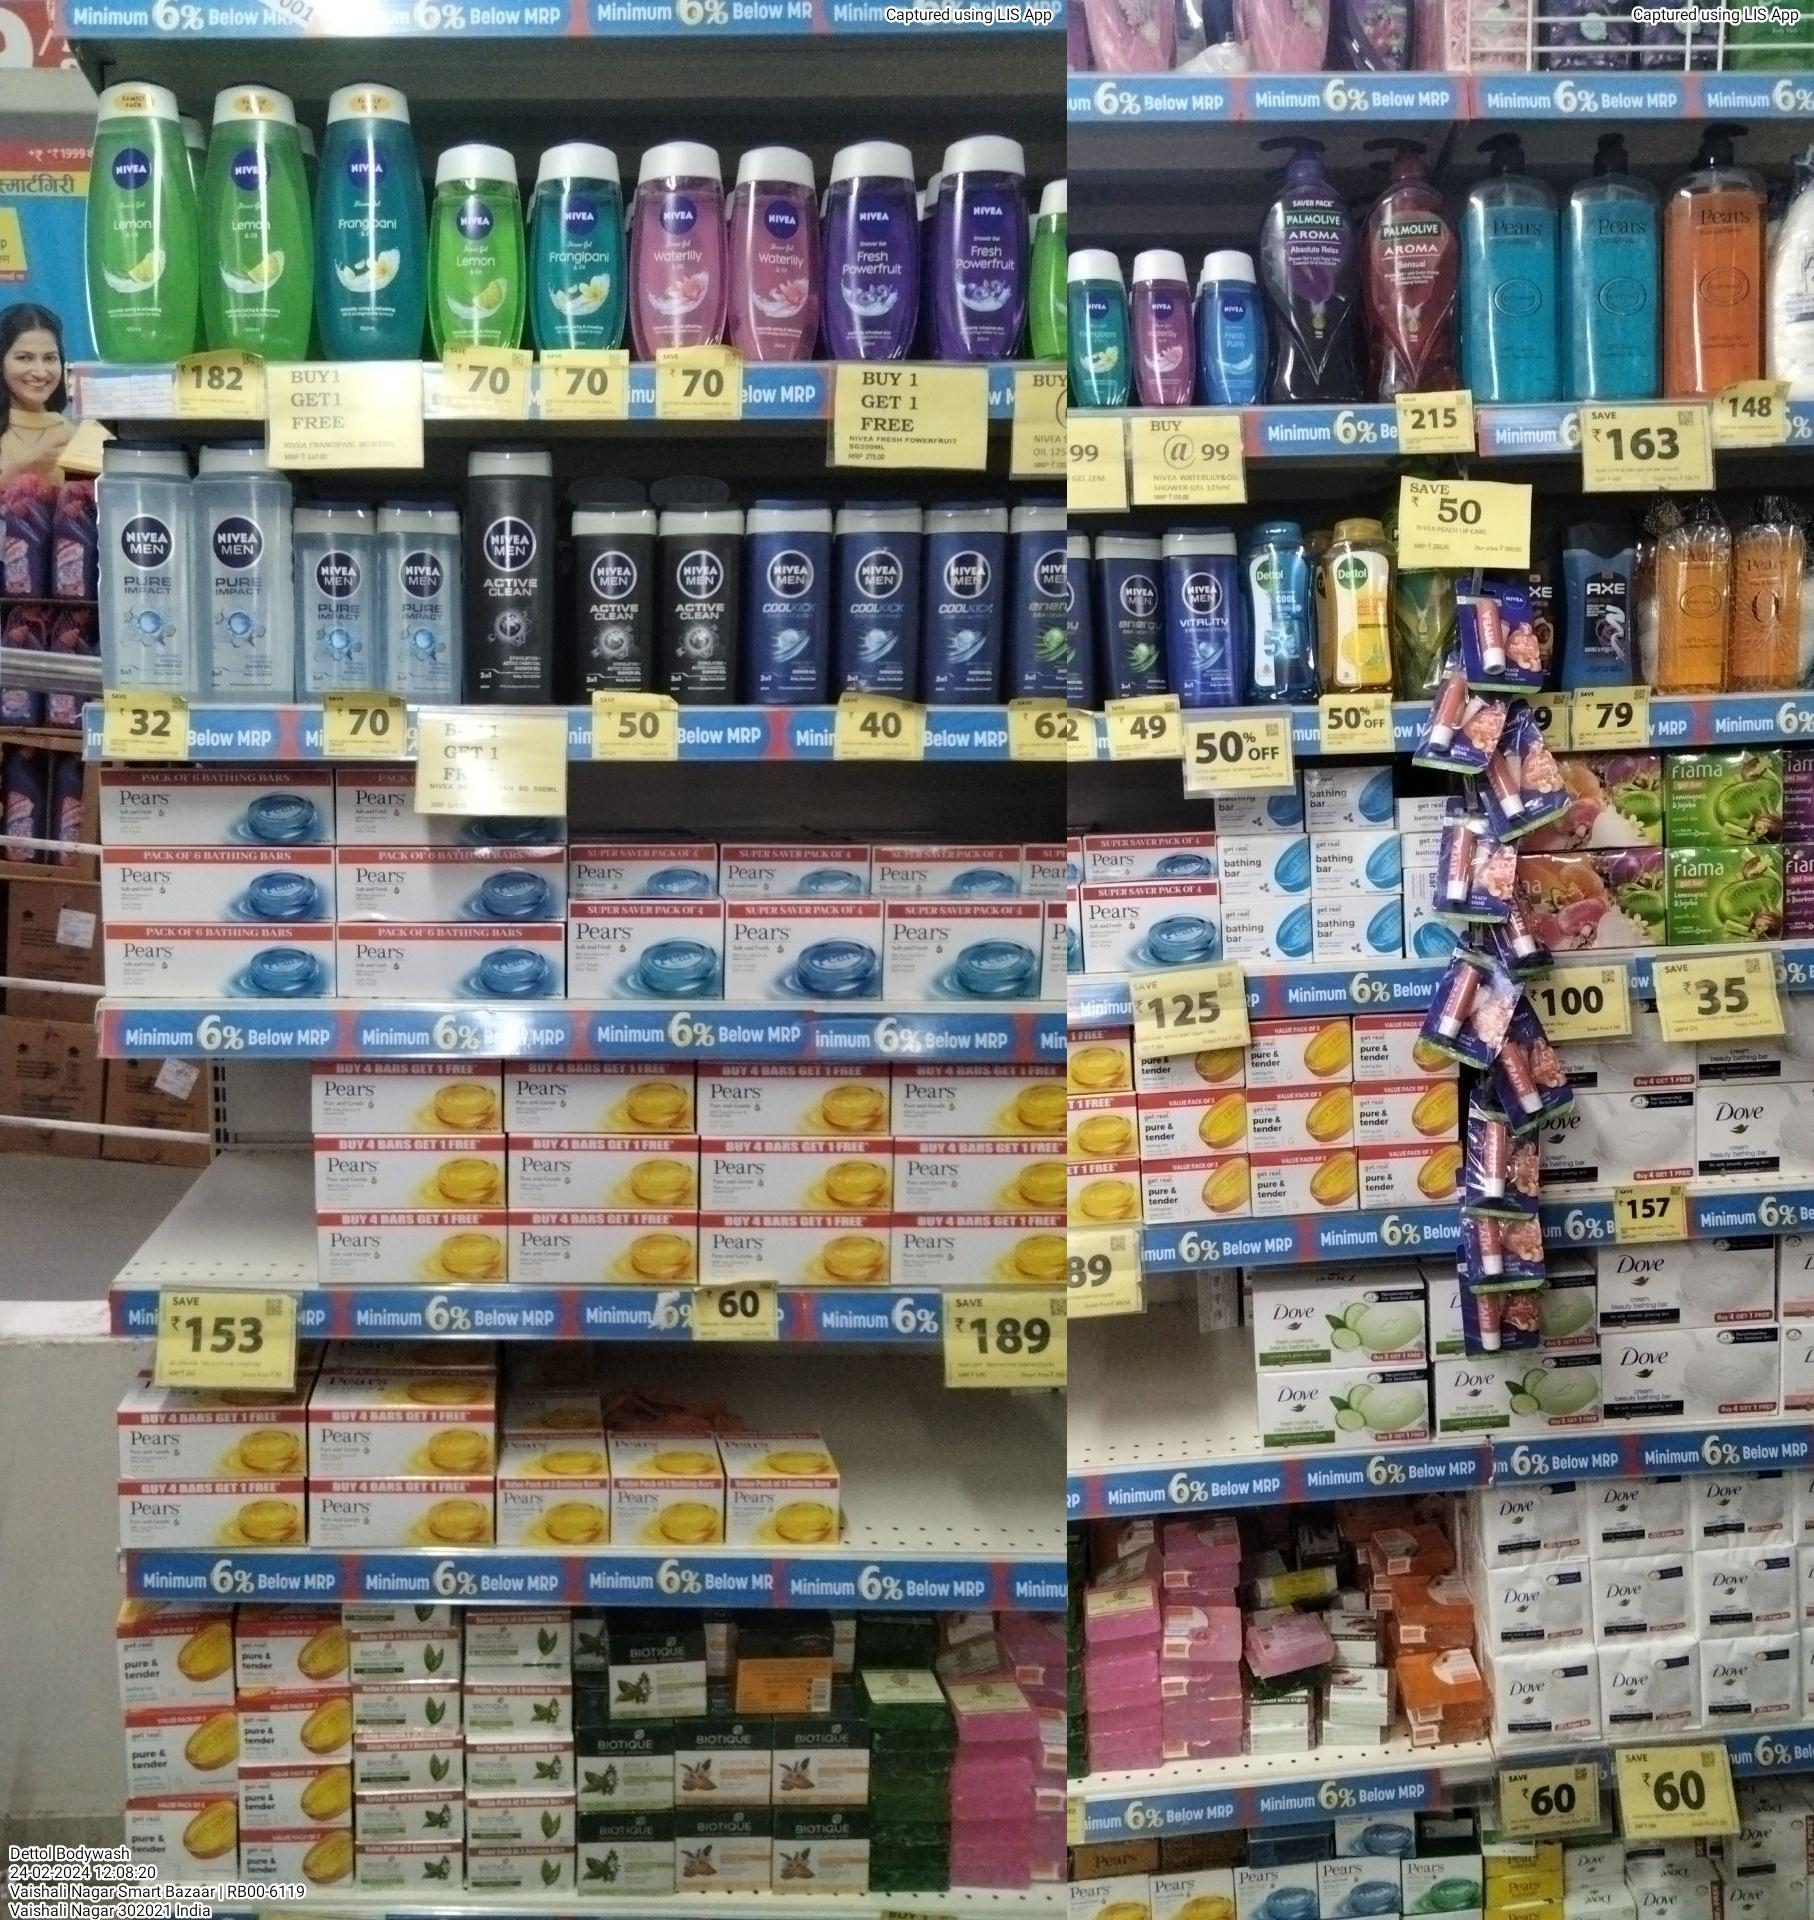Dettol_Bodywash_Cool: (1243, 517, 1320, 704)
Dettol_Bodywash_Refresh: (1323, 515, 1403, 694)
Nivea_Shower_Gel_Frangipani_and_Oil_250ML: (319, 75, 426, 356), (529, 140, 624, 344), (1071, 240, 1132, 409)
Nivea_Shower_Gel_Fresh_Powerfruit_250ML: (817, 140, 924, 360), (936, 128, 1033, 360)
Nivea_Shower_Gel_Lemon_and_Oil_250ML: (90, 80, 205, 365), (203, 84, 317, 351), (431, 135, 525, 350)
Nivea_Shower_Gel_Waterlily_and_Oil_250ML: (627, 138, 733, 358), (730, 140, 817, 360), (1132, 246, 1199, 406)
